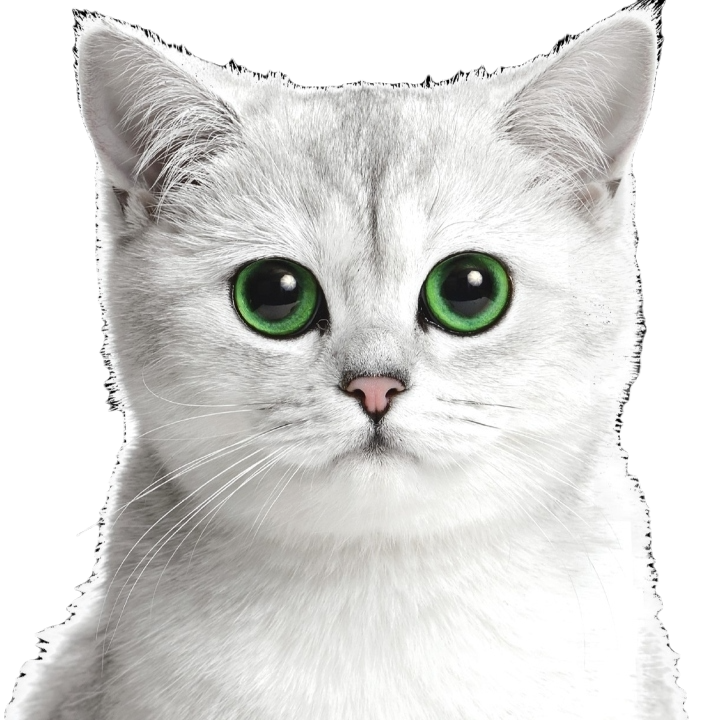Cat: (0, 7, 697, 719)
